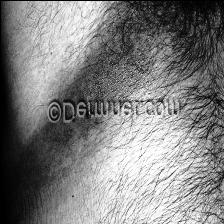Toxin: (43, 147, 88, 191), (108, 50, 130, 88)
